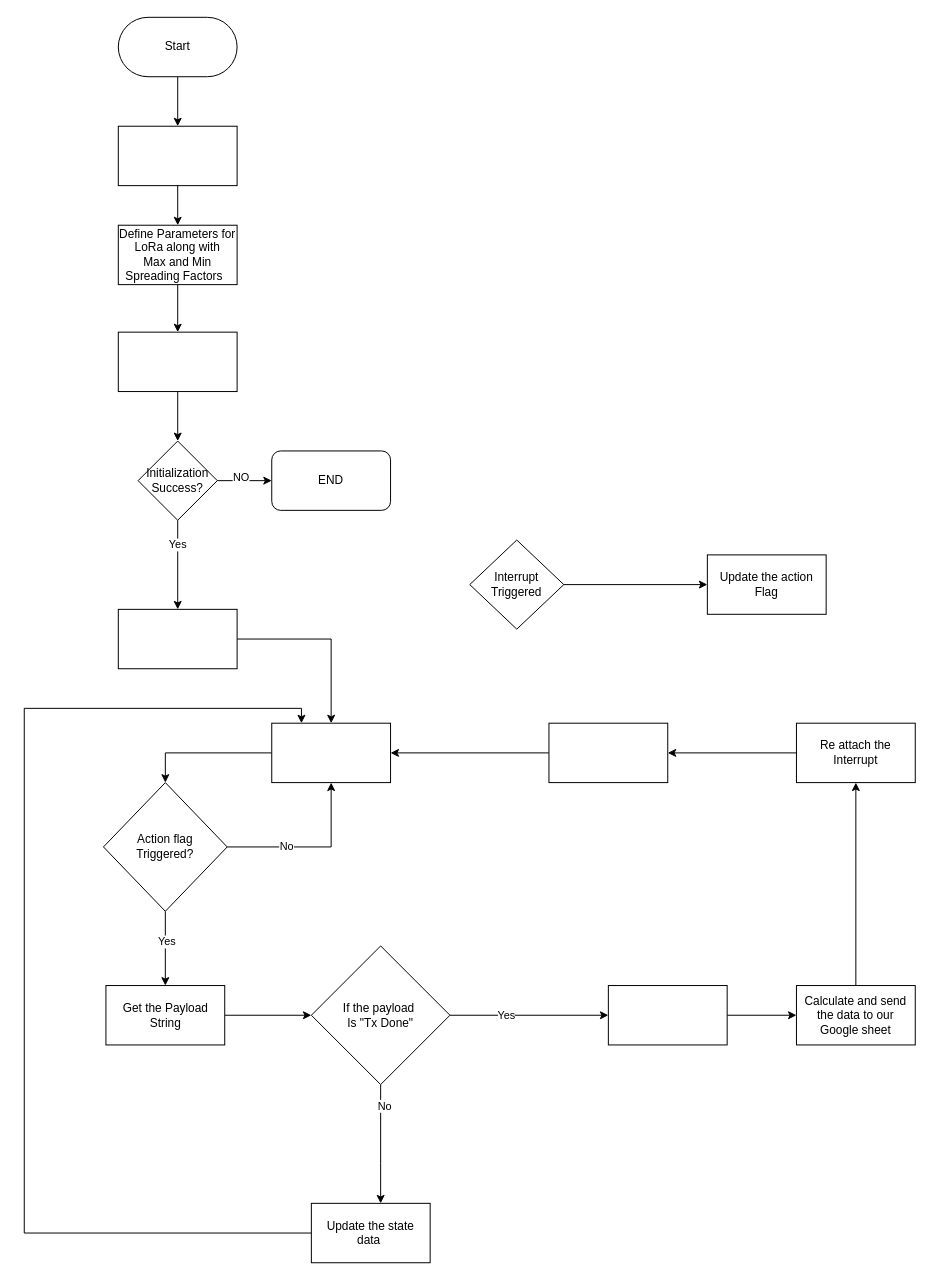
Some shapes in this 933 by 1280 pixel diagram are drawn without their labels. The shapes that lost their labels are listed below. From the top down, each one's centre as x and y in pixels, then its label:
At point (177, 155): "Initialize Board/ OLED/ Clock".
At point (177, 361): "Try To Initialize Radio with LoRa".
At point (177, 638): "Attach DIO 0 Interrupt".
At point (331, 752): "Start listen mode & Sync the clock".
At point (608, 752): "Reset the state data".
At point (667, 1015): "Remove the Interrupt".
